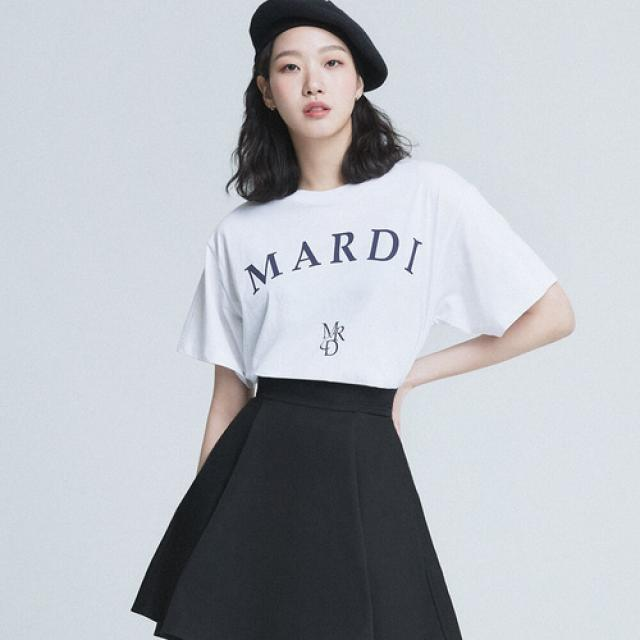dress: (186, 160, 554, 410)
